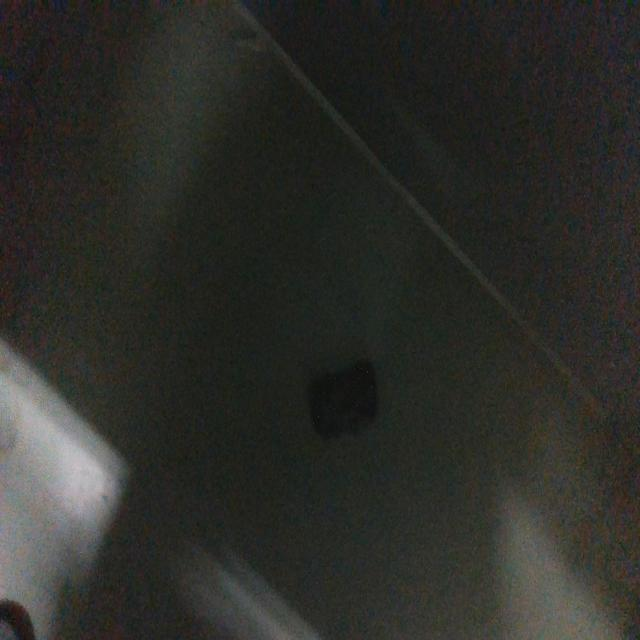stone: (308, 358, 378, 441)
